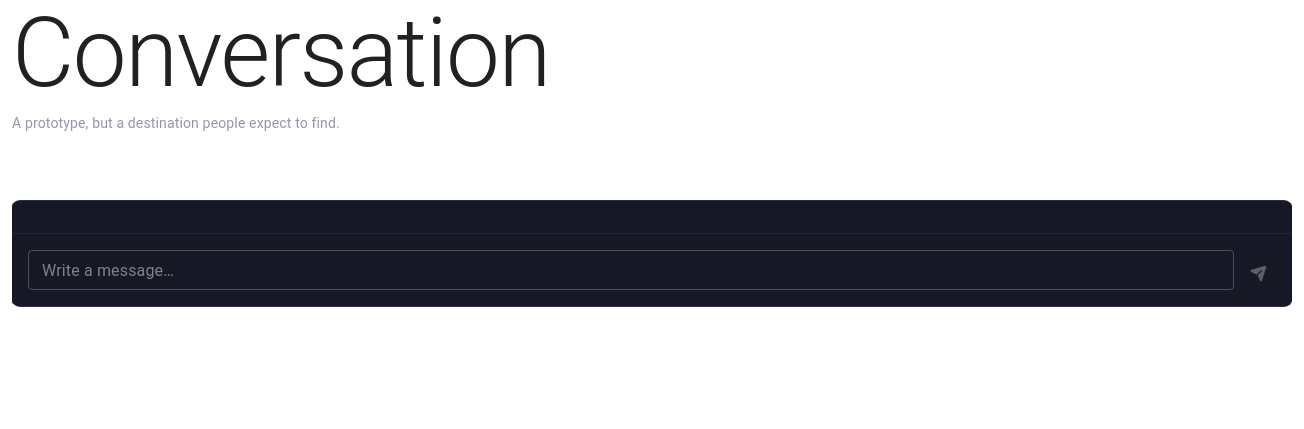
Test: Item (with a token — real wrapper-api sessions) › creates a session lazily on the first message and shows the reply
Type "Check the pump" into the text box labelled "message" at (631, 270), box [42,258,1220,282]
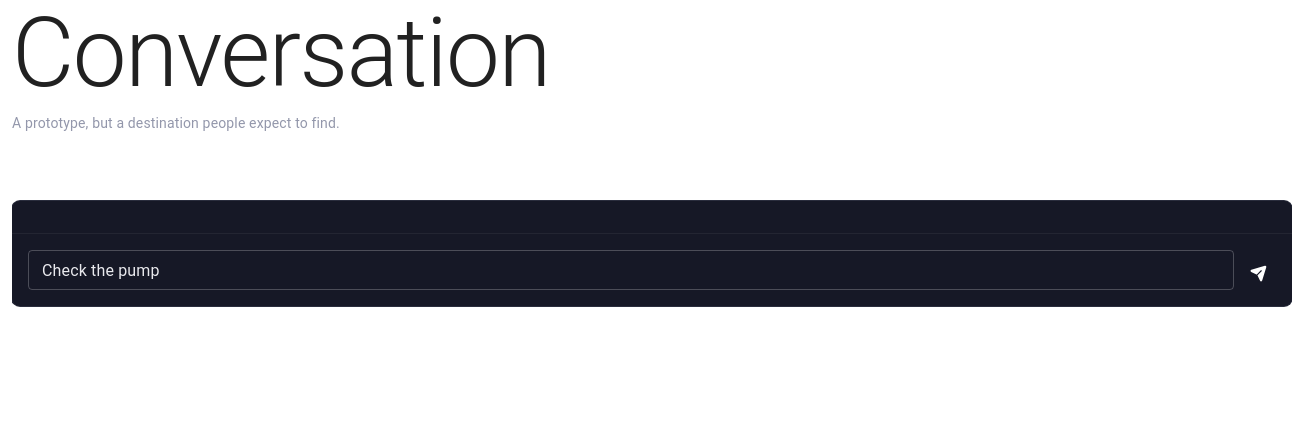
Click the button named "Send" at (1259, 273), box [1242,256,1276,290]
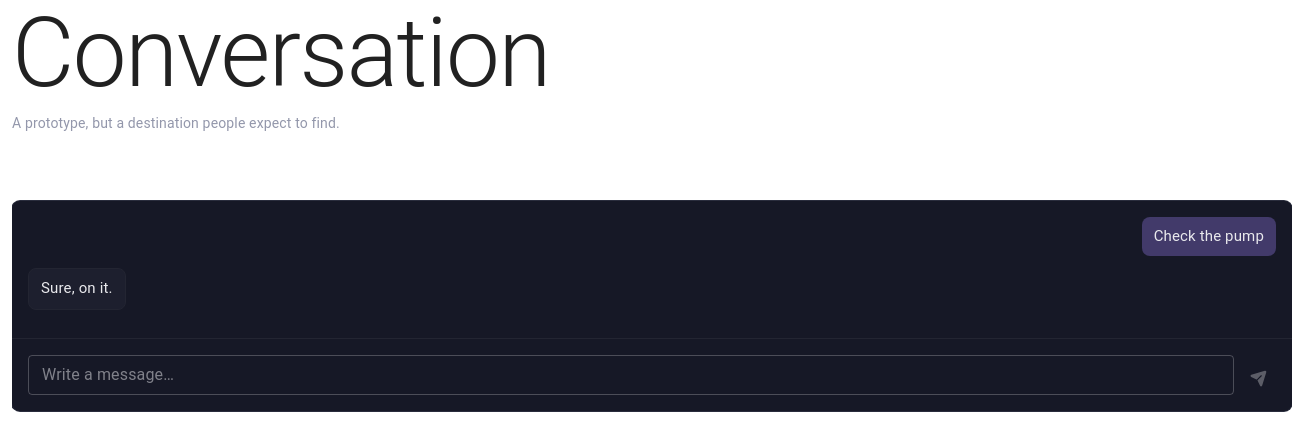
Expected: the text "Check the pump" is shown, [1142,217,1276,256]
Expected: the text "Sure, on it." is shown, [28,268,126,310]
